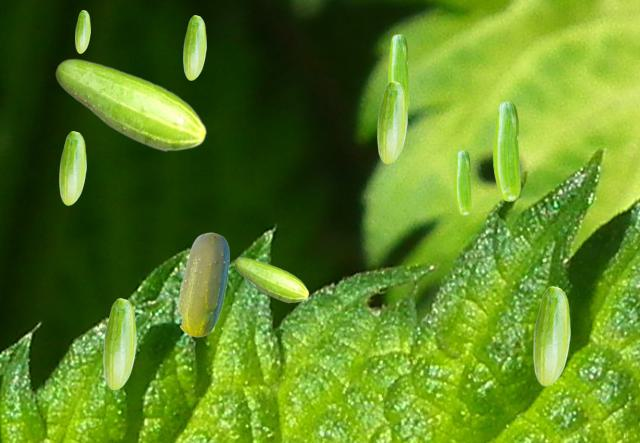cucumber: (55, 58, 206, 151), (177, 232, 228, 336), (533, 286, 569, 385), (234, 257, 308, 302), (103, 298, 135, 389), (493, 101, 519, 200), (377, 81, 406, 163), (59, 131, 85, 204), (388, 34, 408, 110), (183, 15, 205, 79), (454, 150, 470, 214), (75, 10, 89, 52)
